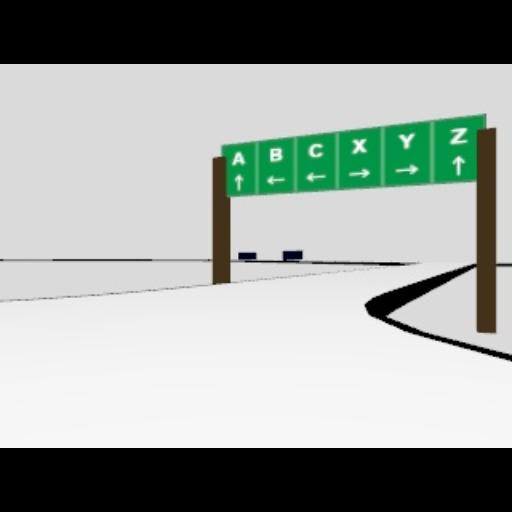A: (231, 151, 245, 165)
B: (268, 147, 282, 161)
C: (307, 142, 323, 158)
Left: (305, 172, 327, 182), (266, 174, 284, 184)
Right: (394, 164, 418, 174), (347, 168, 369, 178)
Straight: (451, 156, 465, 176), (233, 173, 243, 191)
X: (350, 138, 366, 154)
Y: (397, 131, 415, 149)
Z: (450, 126, 468, 144)
